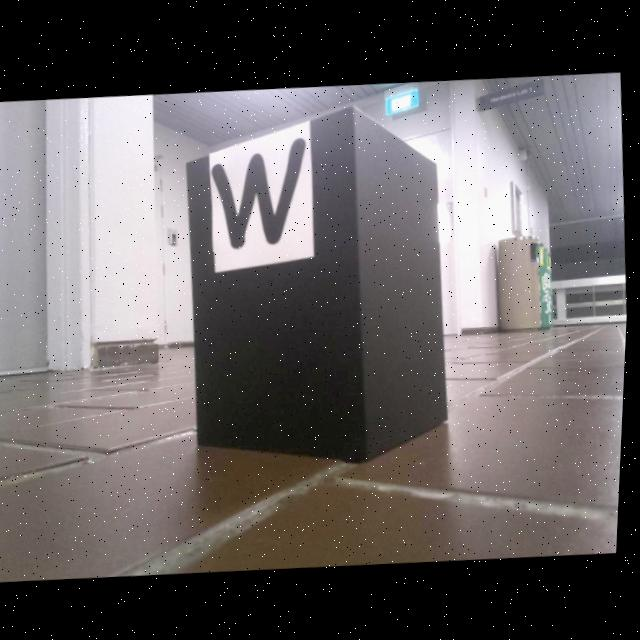W: (211, 135, 309, 249)
